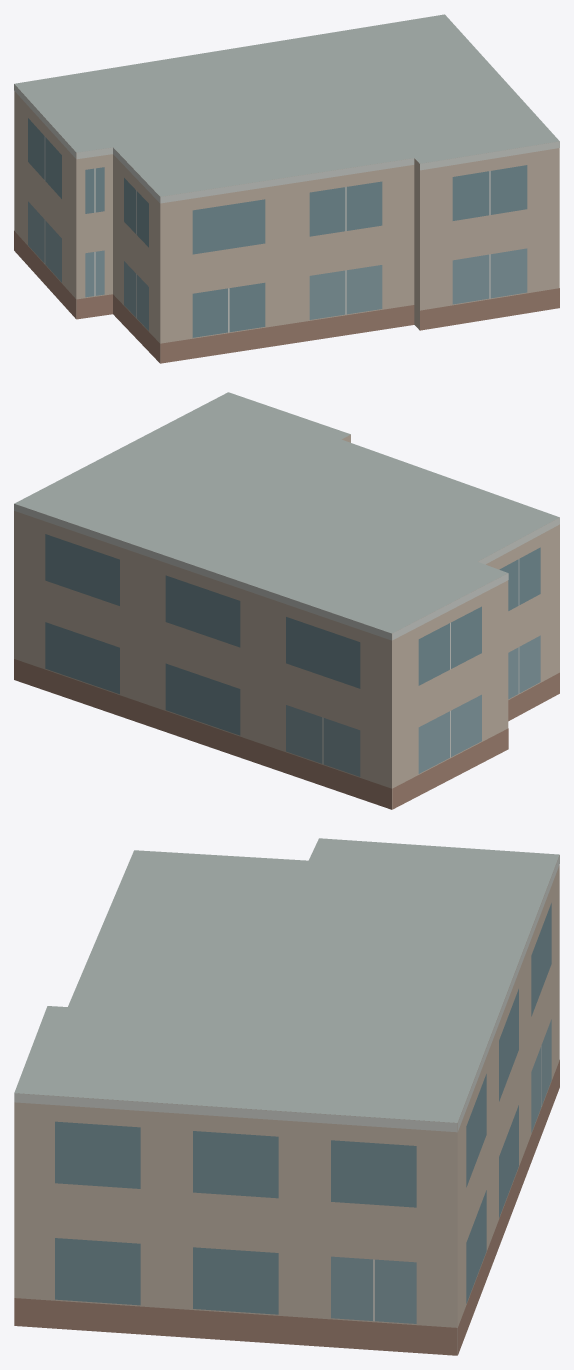
Rendered from survey-upis-32807067.glb.
3 renders of one model, top to bottom at view 1: azimuth 30°, elevation 25°; view 2: azimuth 150°, elevation 25°; view 3: azimuth 270°, elevation 25°, orthographic. The views are drawn at different scales.
Visible parts, largest first — view 1: survey-upis-32807067.tmp; view 2: survey-upis-32807067.tmp; view 3: survey-upis-32807067.tmp.
Boxes of the visible parts, x1,y1,x2,y2 form: survey-upis-32807067.tmp: [14, 14, 559, 363]; survey-upis-32807067.tmp: [14, 392, 559, 809]; survey-upis-32807067.tmp: [14, 838, 559, 1355].
Size of the model in its own units: 16.02 by 6.1 by 12.97.
